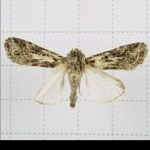Spodoptera litura: (4, 37, 148, 108)
